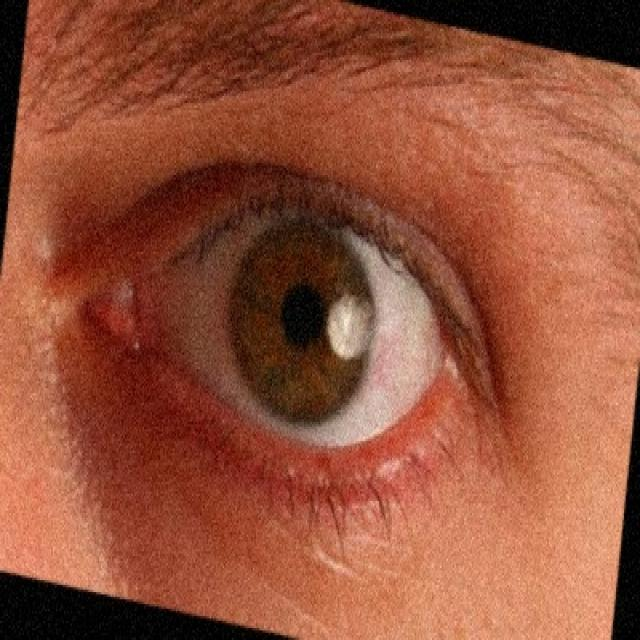Healthy-Eye: (62, 138, 489, 520)
